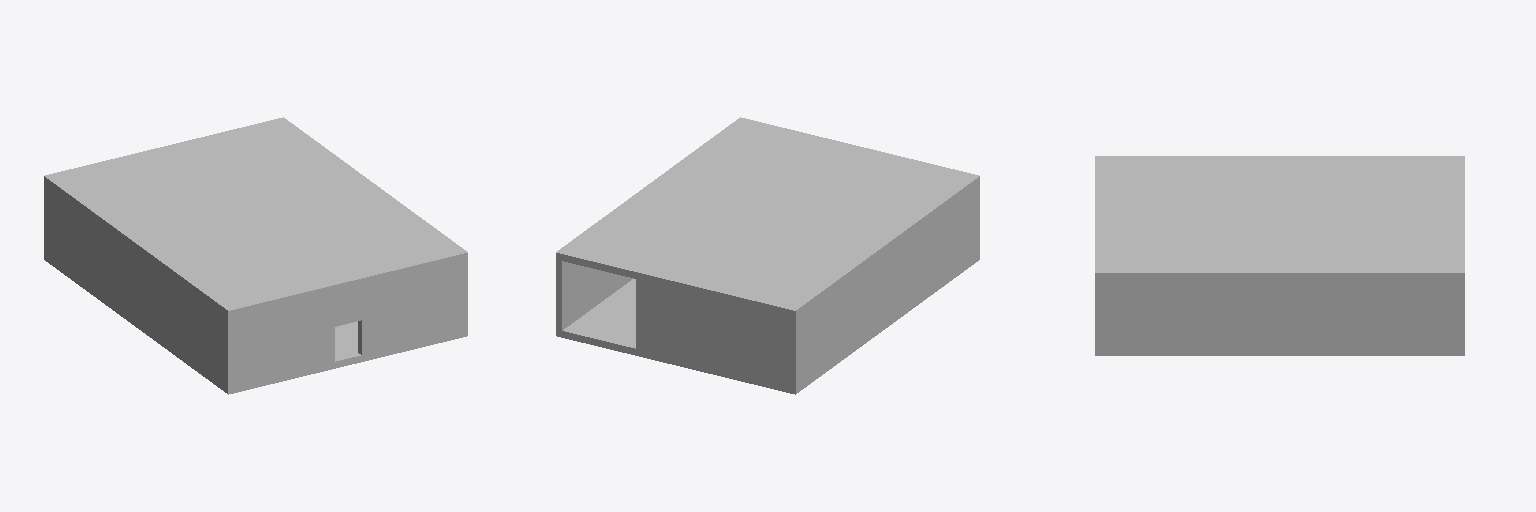
File: end_bang.obj
The picture shows the model from 3 angles: view 1: azimuth 30°, elevation 25°; view 2: azimuth 150°, elevation 25°; view 3: azimuth 270°, elevation 25°; orthographic projection.
Parts seen in each view (by area): view 1: Cube.004, Cube.003, Cube.008, Cube.006, Cube, Cube.005; view 2: Cube.004, Cube.003, Cube.002, Cube, Cube.001; view 3: Cube.004, Cube.001, Cube, Cube.006.
Part boxes in pixels (x1,y1,x2,y2): Cube.004: (44, 117, 467, 317); Cube.003: (44, 183, 224, 384); Cube.008: (225, 292, 334, 387); Cube.006: (358, 260, 467, 354); Cube: (44, 253, 467, 394); Cube.005: (335, 286, 361, 326); Cube.004: (556, 117, 979, 317); Cube.003: (789, 186, 976, 387); Cube.002: (636, 279, 788, 385); Cube: (556, 253, 979, 394); Cube.001: (556, 260, 633, 330); Cube.004: (1095, 156, 1464, 279); Cube.001: (1103, 280, 1464, 348); Cube: (1095, 349, 1464, 355); Cube.006: (1095, 280, 1102, 348).
Bounding box in the file's own units: 36 × 12 × 48.